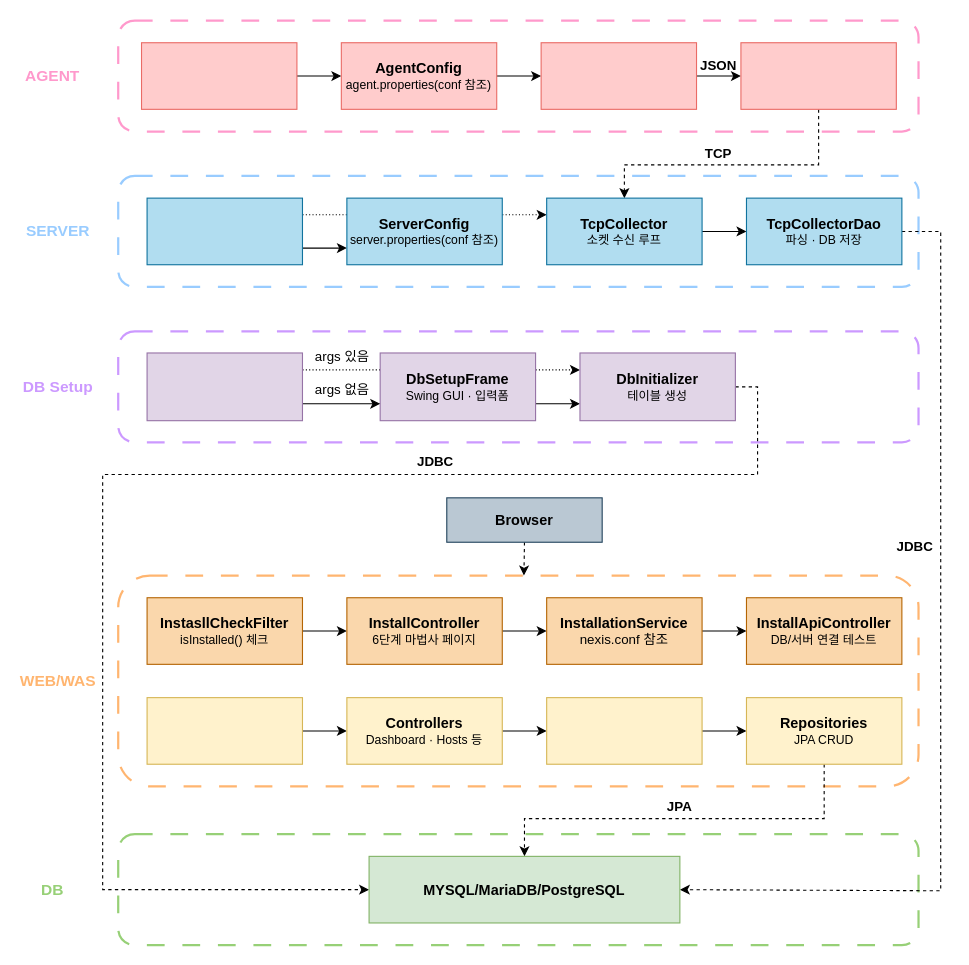
Image size: 969x965. Some labels were removed from this diagram. The centre of each missing label's shape, as x and y in pixels:
"AgentApplication 진입점 · 스케쥴러" goes at point (218, 75).
"DbSetupMain 진입점 · GUI/CLI 분기" goes at point (224, 386).
"Sender TCP 소켓 전송" goes at point (818, 75).
"ServerApplicaiton 진입점" goes at point (224, 231).
"Services Host · Trigger 등" goes at point (624, 730).
"SpringSecurity FilterChain 설정 PermissionInterceptor 등록" goes at point (224, 730).
"SystemInfoCollector CPU · Memory 수집" goes at point (618, 75).
